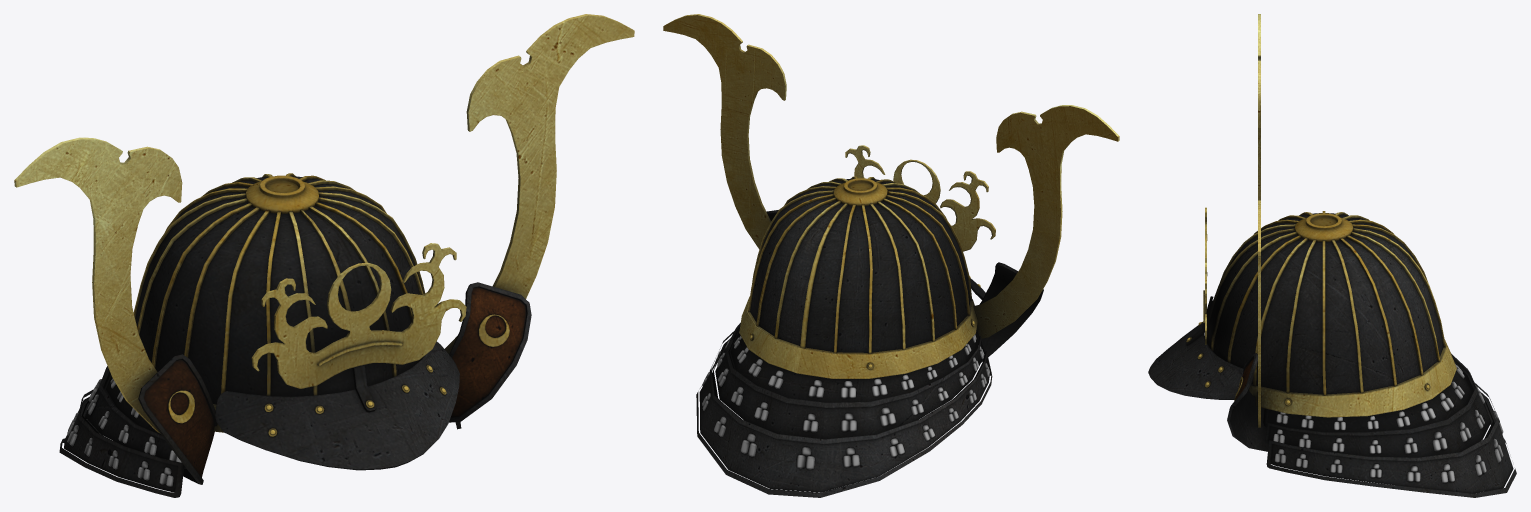
Rendered from jp_helmet_01.fbx.
The picture shows the model from 3 angles, left to right: view 1: azimuth 30°, elevation 25°; view 2: azimuth 150°, elevation 25°; view 3: azimuth 270°, elevation 25°; orthographic projection. The views are drawn at different scales.
Parts seen in each view (by area): view 1: helmet_GEO; view 2: helmet_GEO; view 3: helmet_GEO.
Boxes of the visible parts, bbox=[...] form: helmet_GEO: bbox=[14, 14, 634, 497]; helmet_GEO: bbox=[663, 14, 1119, 497]; helmet_GEO: bbox=[1148, 14, 1516, 497].
Bounding box in the file's own units: 5.44 × 3.92 × 3.65.
Materials: 1 (1 with a texture image).
